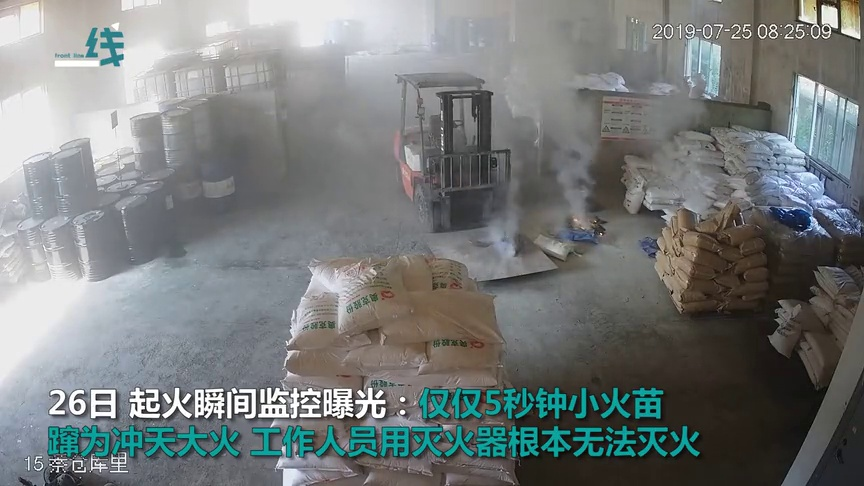smoke: (539, 75, 589, 215), (647, 86, 702, 212), (482, 169, 522, 252)
